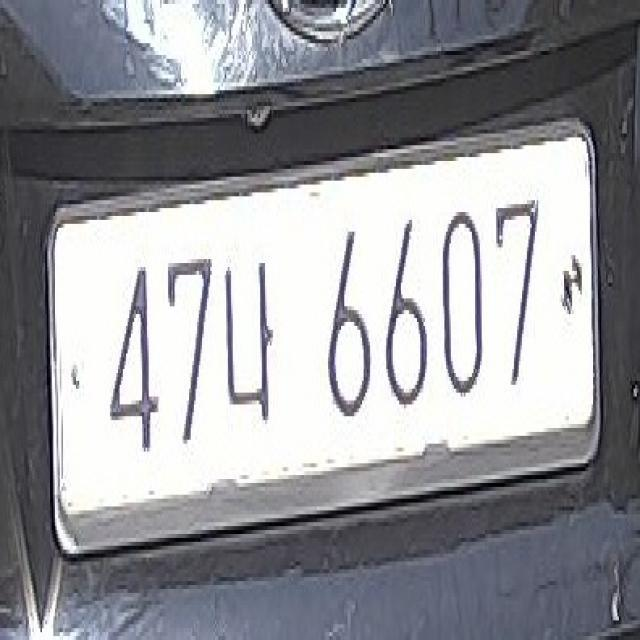0: (438, 203, 487, 428)
4: (108, 258, 162, 482)
6: (320, 220, 378, 443), (382, 213, 432, 437)
7: (490, 191, 548, 409), (165, 251, 215, 468)
license_plate: (36, 98, 616, 593)
na: (221, 253, 282, 452)
